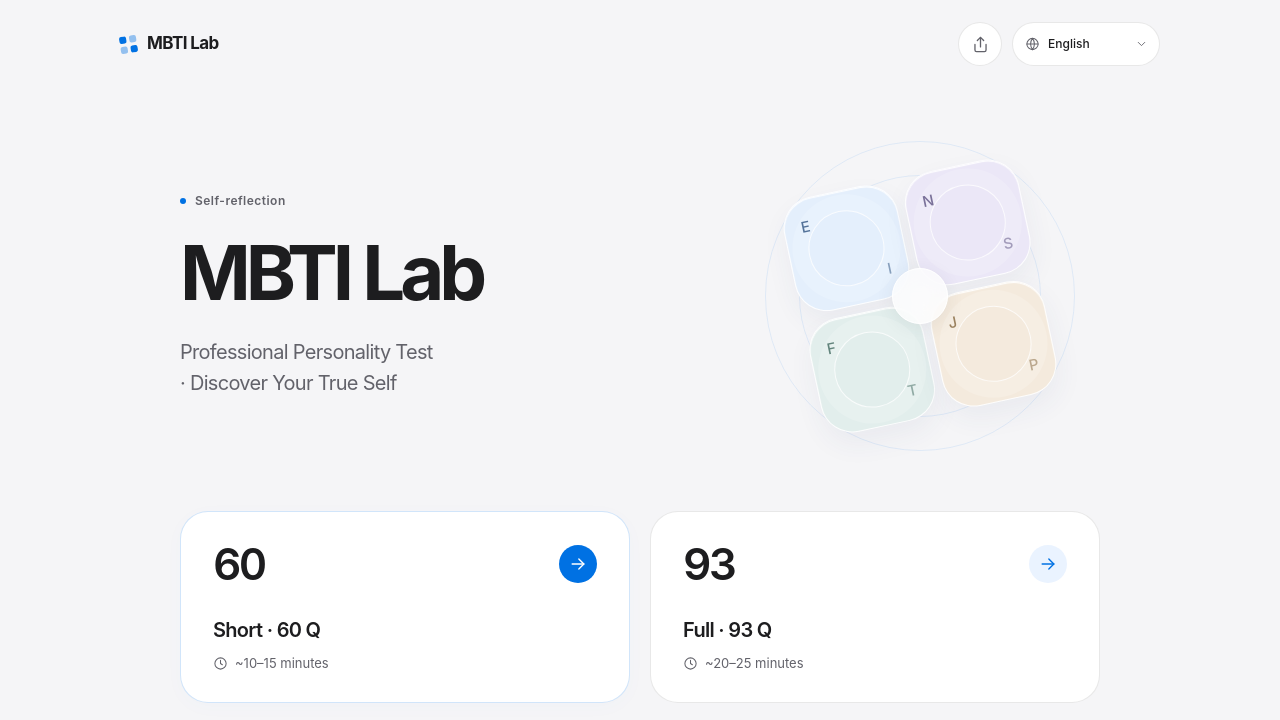
Test: shows a real completion time and saved status, translating the date without changing data
Select "简体中文" in the dropdown with class "lang-toggle": (1086, 44) [1012,22,1160,66]
(page scrolled)
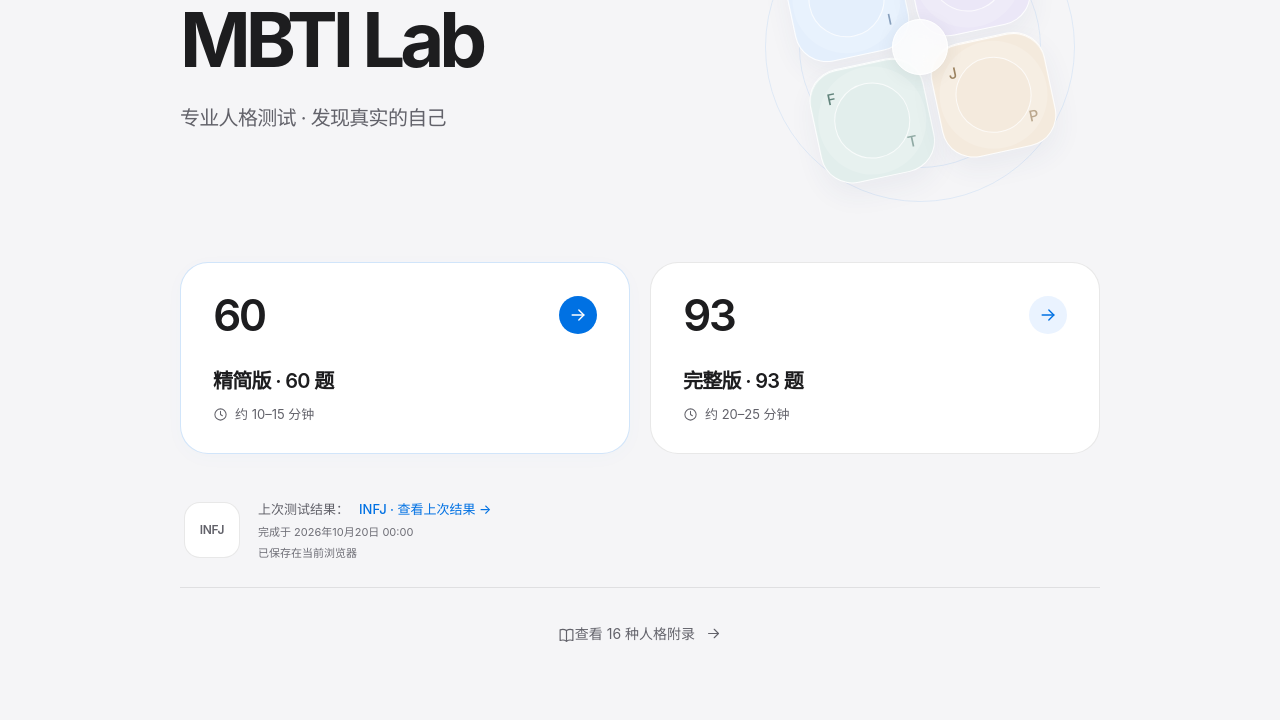
Expected: the element with class "result-completed" shows "年", [258,525,413,539]
